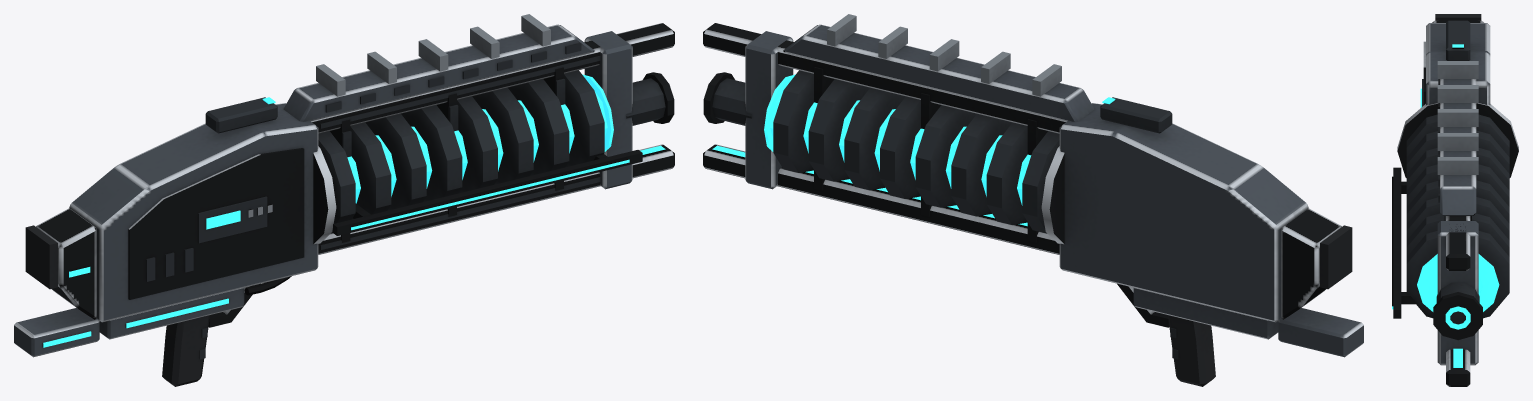
Rendered from opr_wpn_kinetic_accelerator_c.glb.
3 views of the same model, side by side, from view 1: azimuth 30°, elevation 25°; view 2: azimuth 150°, elevation 25°; view 3: azimuth 270°, elevation 25° (orthographic). The views are drawn at different scales.
Visible parts, largest first — view 1: mesh_intact; view 2: mesh_intact; view 3: mesh_intact.
Boxes of the visible parts, box(x1,y1,x2,y2) form: mesh_intact: box(14, 14, 674, 386); mesh_intact: box(703, 14, 1363, 386); mesh_intact: box(1392, 14, 1518, 386).
Bounding box in the file's own units: 0.8703 × 0.3487 × 0.1545.
1 material, 1 textured.
